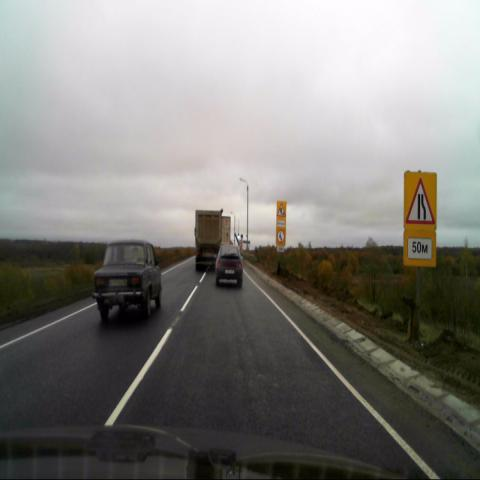8_1_1: (404, 235, 436, 266)
